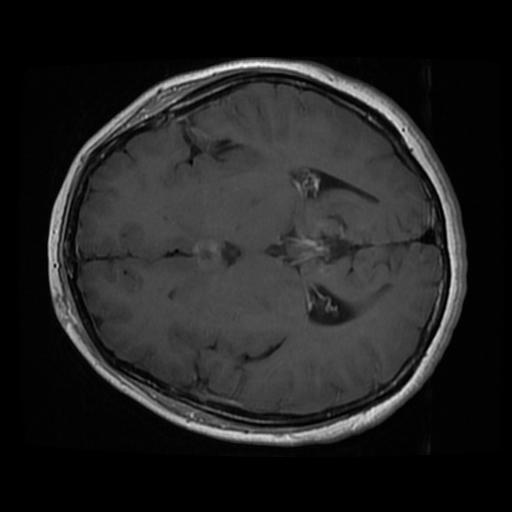pituitary tumour: (191, 238, 222, 272)
